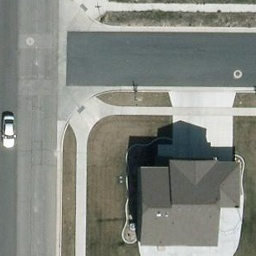car: (1, 113, 15, 153)
